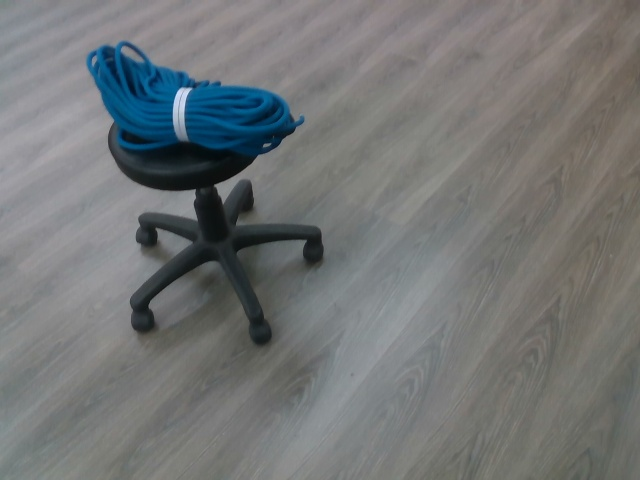rope: (82, 38, 308, 162)
